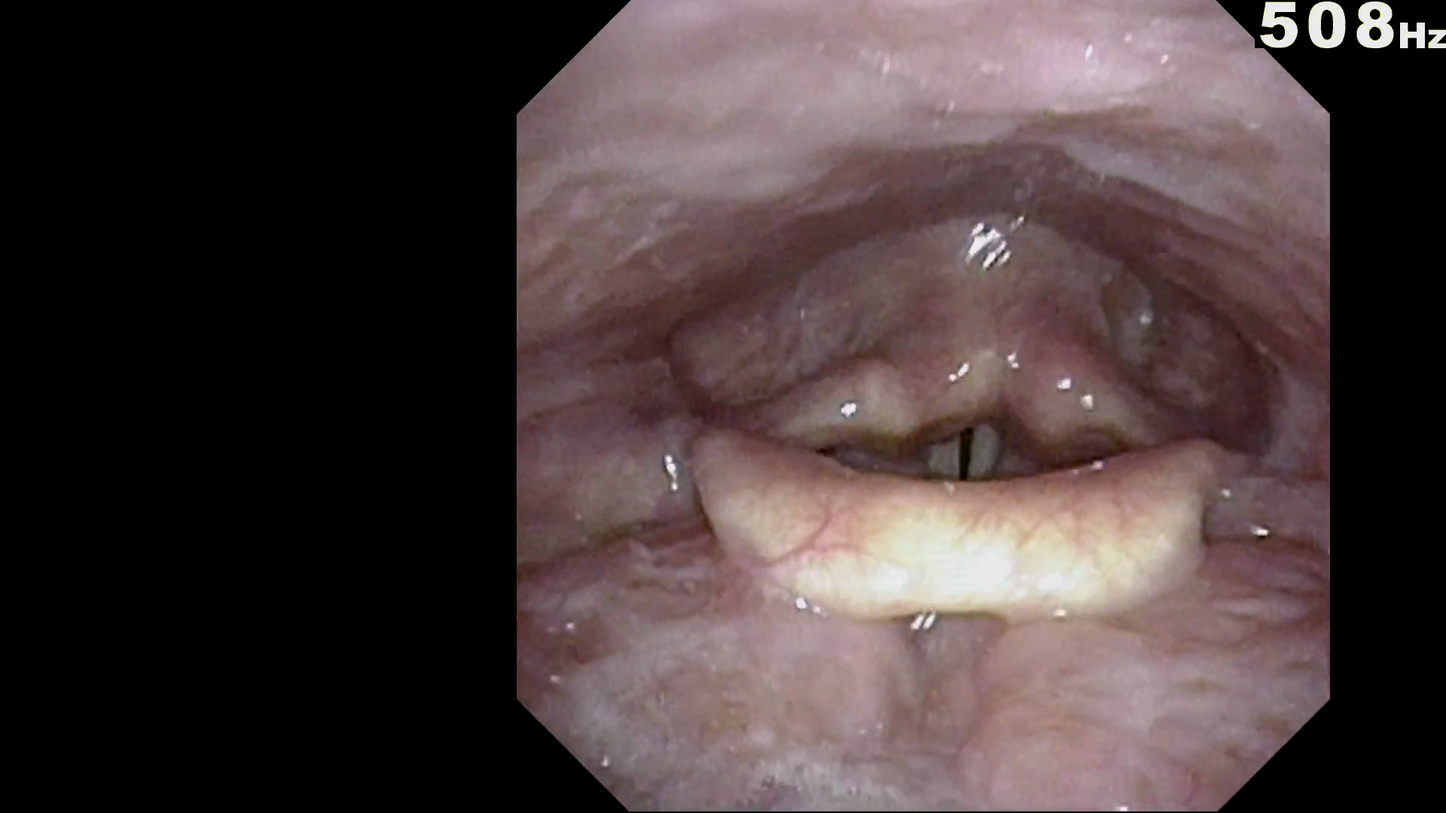epiglottis: (680, 378, 1253, 632)
trachea: (901, 350, 1054, 511)
